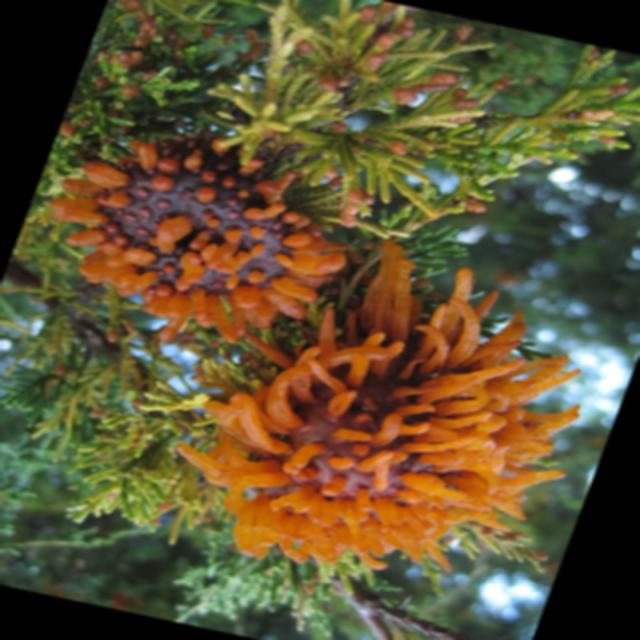Gymnosporangium_Rusts: (175, 238, 582, 574)
